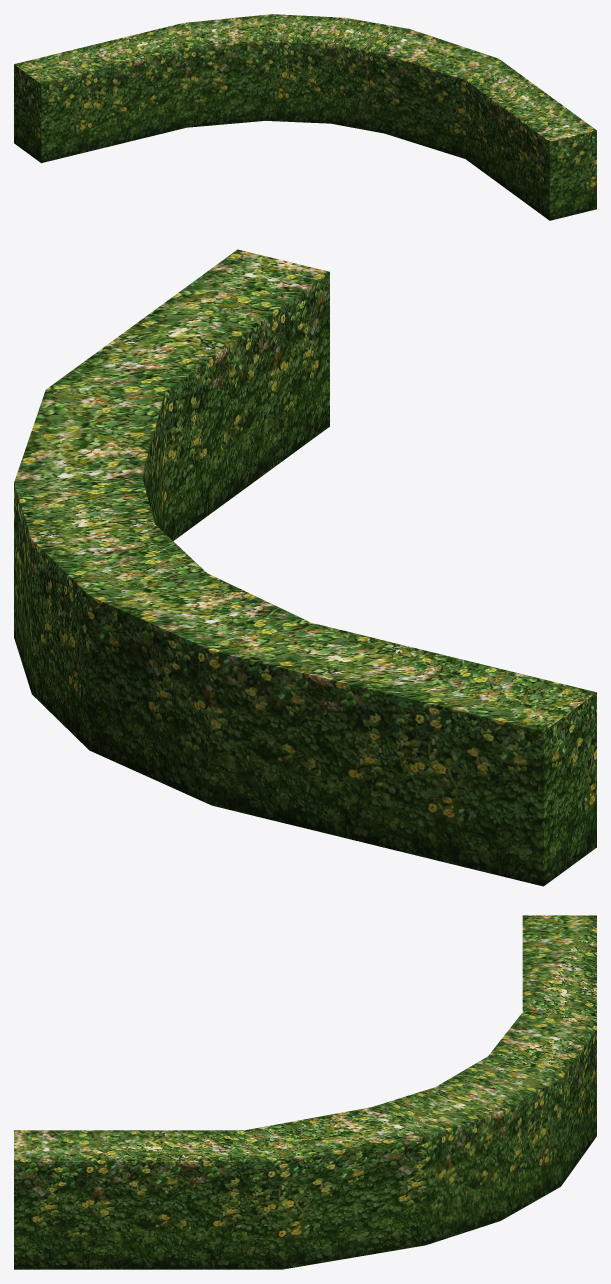
The model's file is Hedge 01-03.dae.
3 views of the same model, one above another, from view 1: azimuth 30°, elevation 25°; view 2: azimuth 150°, elevation 25°; view 3: azimuth 270°, elevation 25° (orthographic). The views are drawn at different scales.
Visible parts, largest first — view 1: skp11B8; view 2: skp11B8; view 3: skp11B8.
Part boxes in pixels (x1=…): skp11B8: x1=14, y1=14, x2=596, y2=220; skp11B8: x1=14, y1=249, x2=596, y2=886; skp11B8: x1=14, y1=915, x2=596, y2=1269.
Size of the model in its own units: 480 by 481 by 98.37.
1 material, 1 textured.
